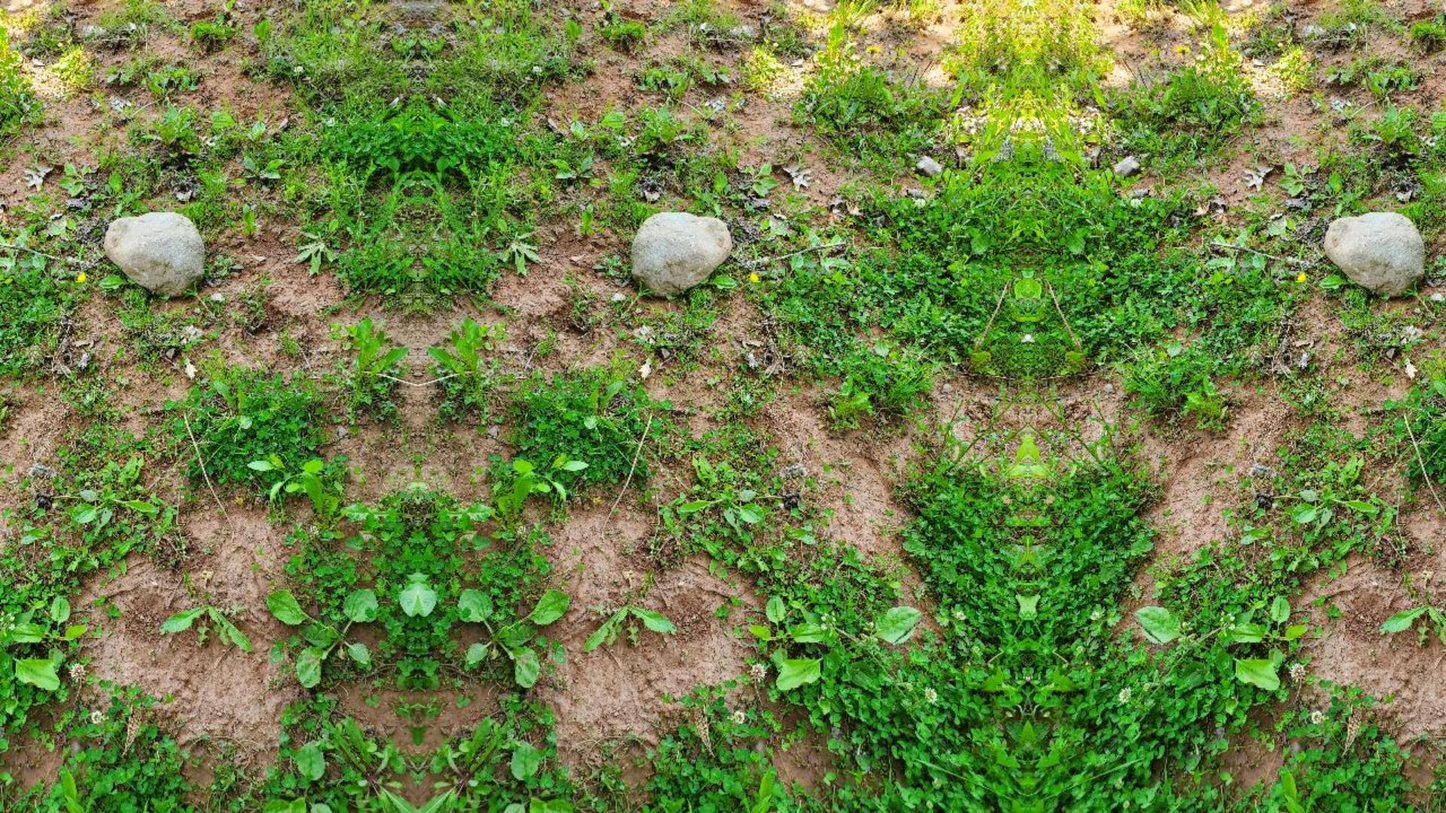rock: (630, 212, 731, 295), (104, 212, 203, 295), (1324, 212, 1423, 295)
